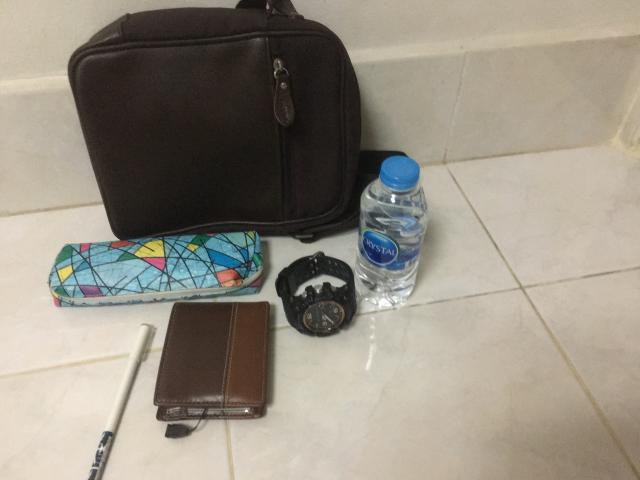Pen: (89, 324, 154, 480)
Wallet: (154, 301, 270, 421)
Watch: (275, 251, 356, 336)
bottle: (355, 155, 428, 306)
